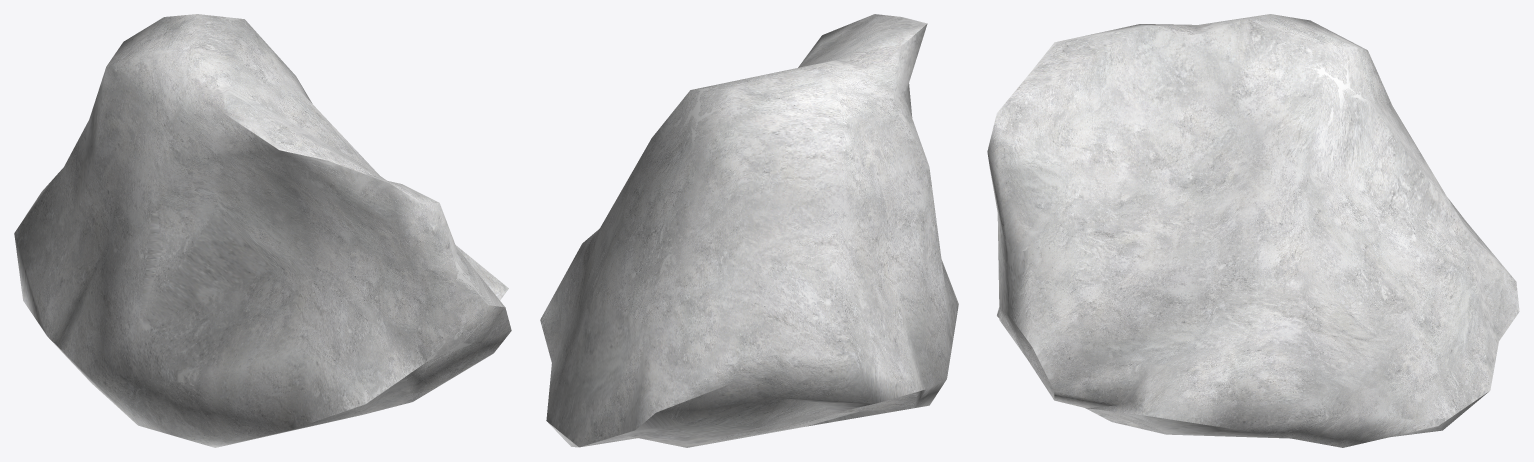
Rendered from rock_00D_lp2.fbx.
3 renders of one model, left to right at view 1: azimuth 30°, elevation 25°; view 2: azimuth 150°, elevation 25°; view 3: azimuth 270°, elevation 25°, orthographic.
Parts seen in each view (by area): view 1: rock_00D_lp2; view 2: rock_00D_lp2; view 3: rock_00D_lp2.
Boxes of the visible parts, x1=… form: rock_00D_lp2: x1=14, y1=14, x2=511, y2=447; rock_00D_lp2: x1=540, y1=14, x2=958, y2=447; rock_00D_lp2: x1=987, y1=14, x2=1519, y2=447.
Size of the model in its own units: 157 by 141 by 187.
